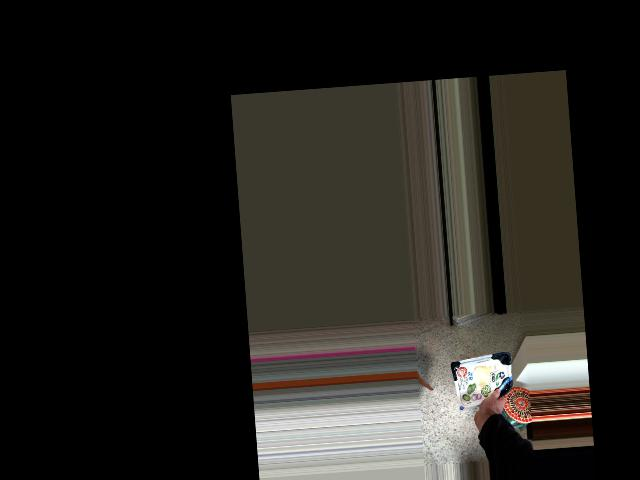cheese: (452, 369, 507, 419)
